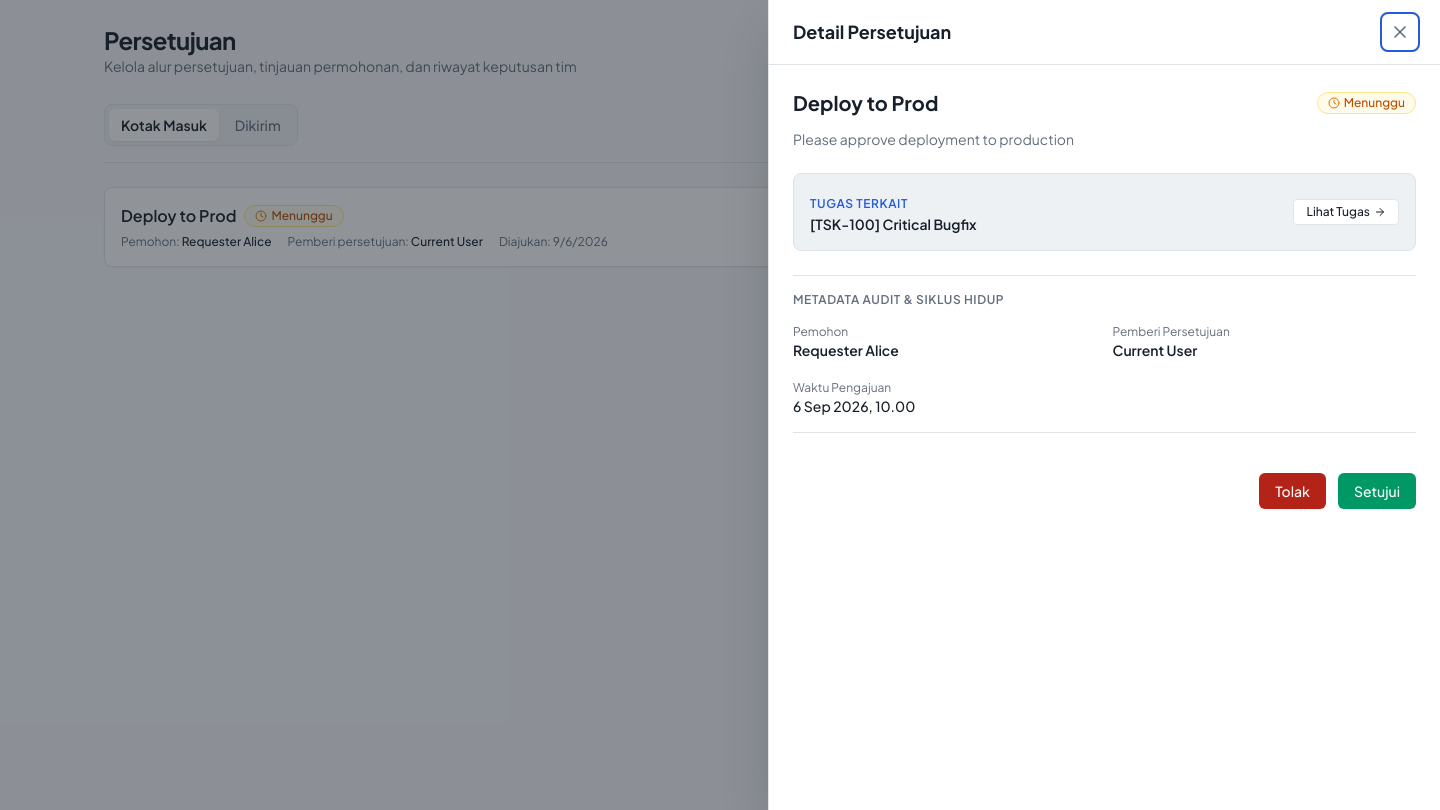
it: Phase 10 Task 8 — Approval Detail, Create, Approve/Reject/Cancel UX › requires reason when Rejecting and validates minimum 3 characters
The image size is (1440, 810).
Click the button with aria-label "Reject" at (1293, 491), box [1259,473,1326,509]
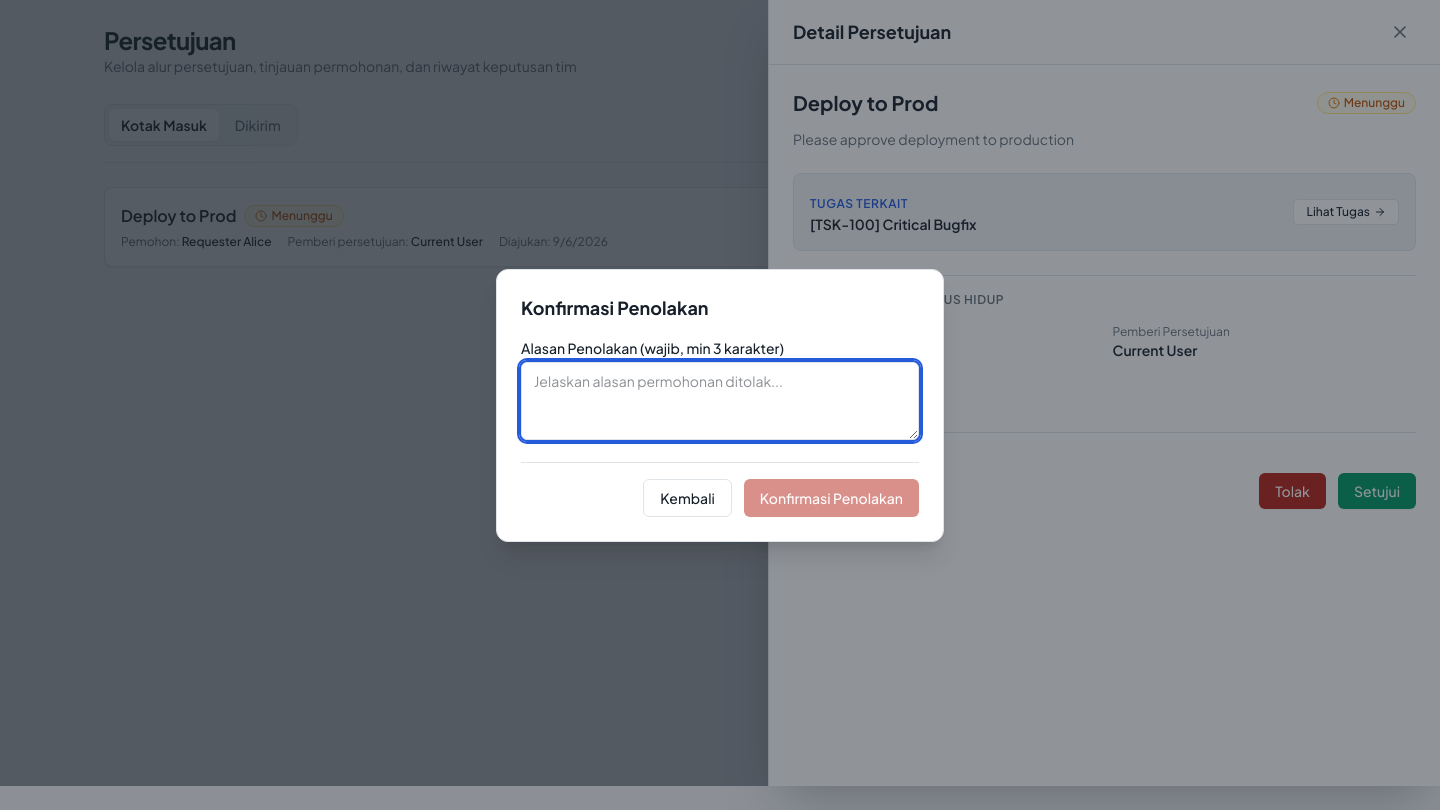
Expected: the button with aria-label "Confirm Rejection" is disabled, [744,478,919,516]
Type "No" into the text box named "Rejection Reason" at (720, 400), box [521,362,919,440]
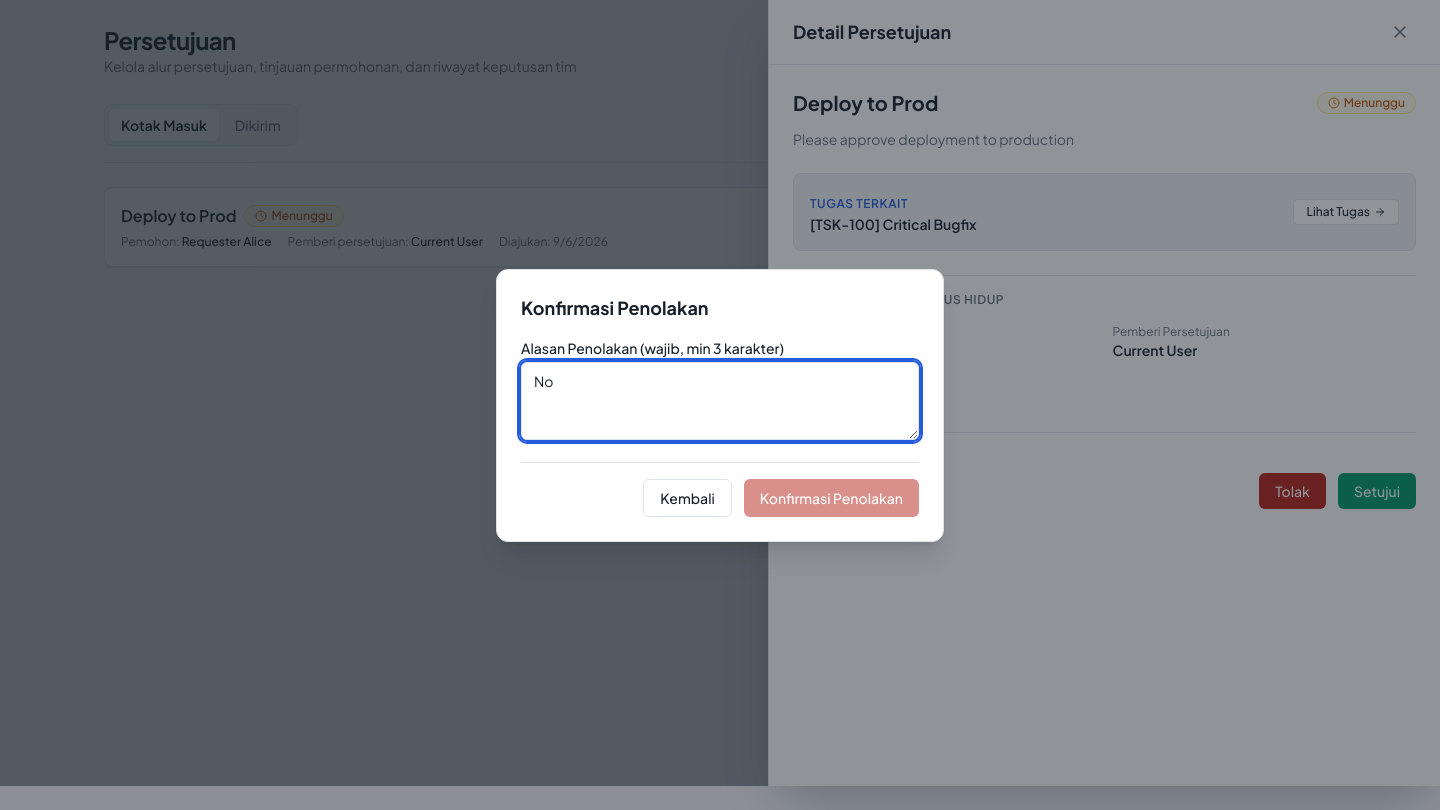
Expected: the button with aria-label "Confirm Rejection" is disabled, [744,478,919,516]
Replace the text in the text box named "Rejection Reason" with "Does not meet criteria" at (720, 400), box [521,362,919,440]
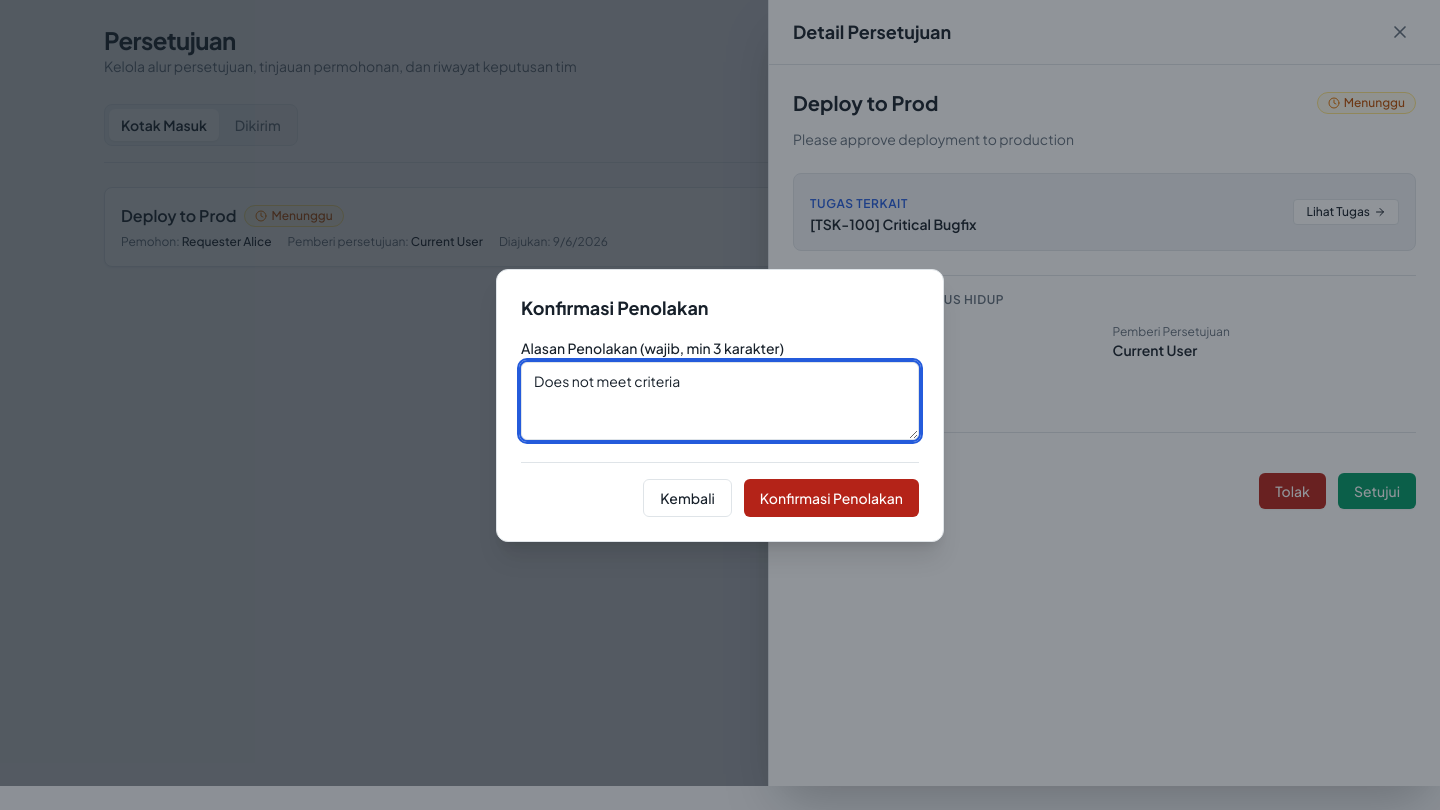
Expected: the button with aria-label "Confirm Rejection" is enabled, [744,478,919,516]
